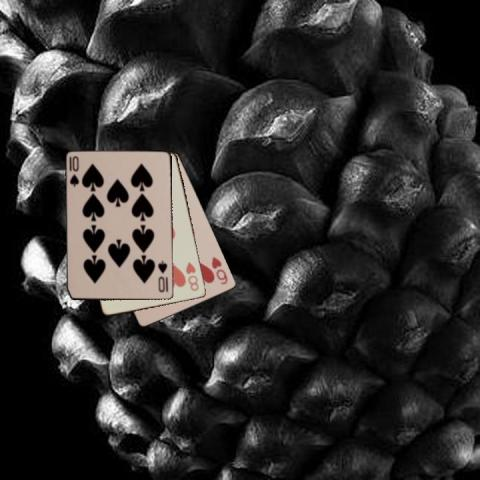10s: (155, 259, 169, 294), (66, 153, 80, 188)
6h: (209, 253, 229, 286)
8h: (183, 258, 200, 292)
